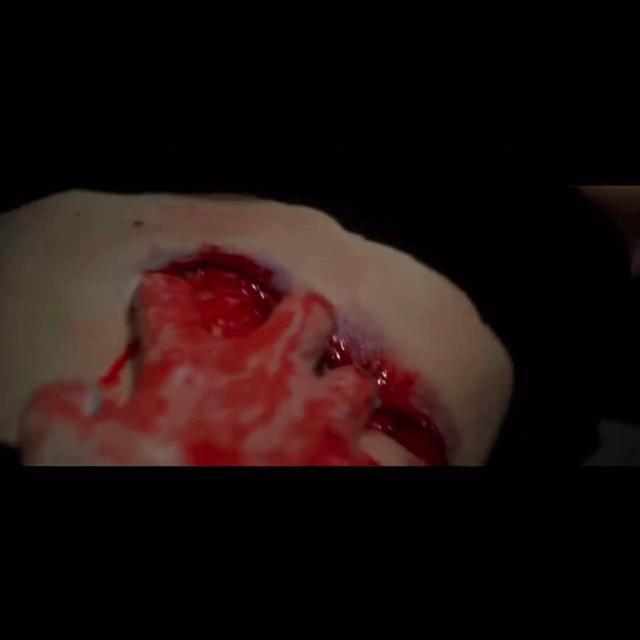blood: (20, 245, 460, 466)
